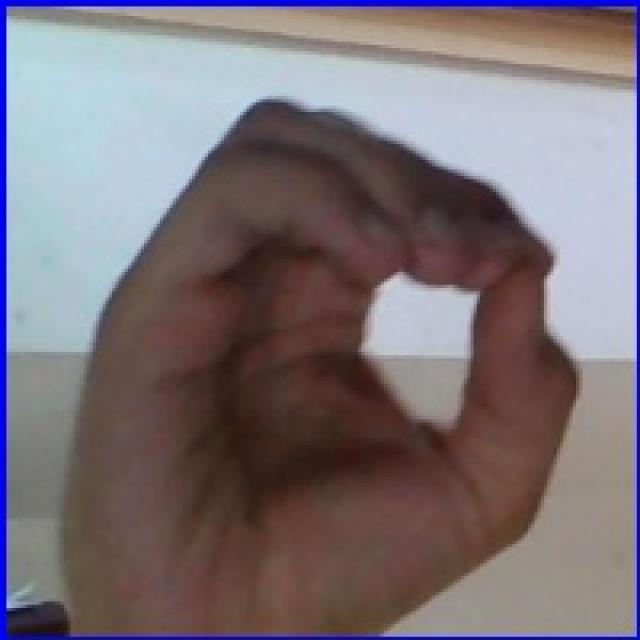Letra-O: (45, 64, 598, 640)
